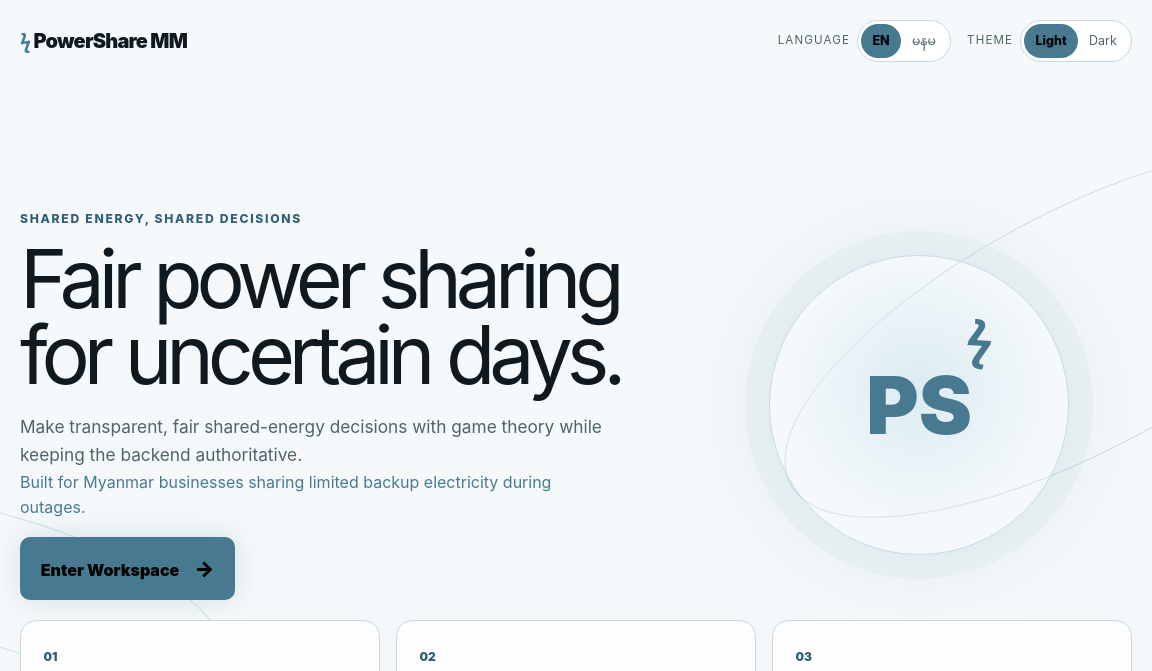
it: ScenarioForm — guided UX › disables submission when capacity is 0 or negative
Click the button "Enter Workspace →" at [128, 568], box [20,537,235,600]
(page scrolled)
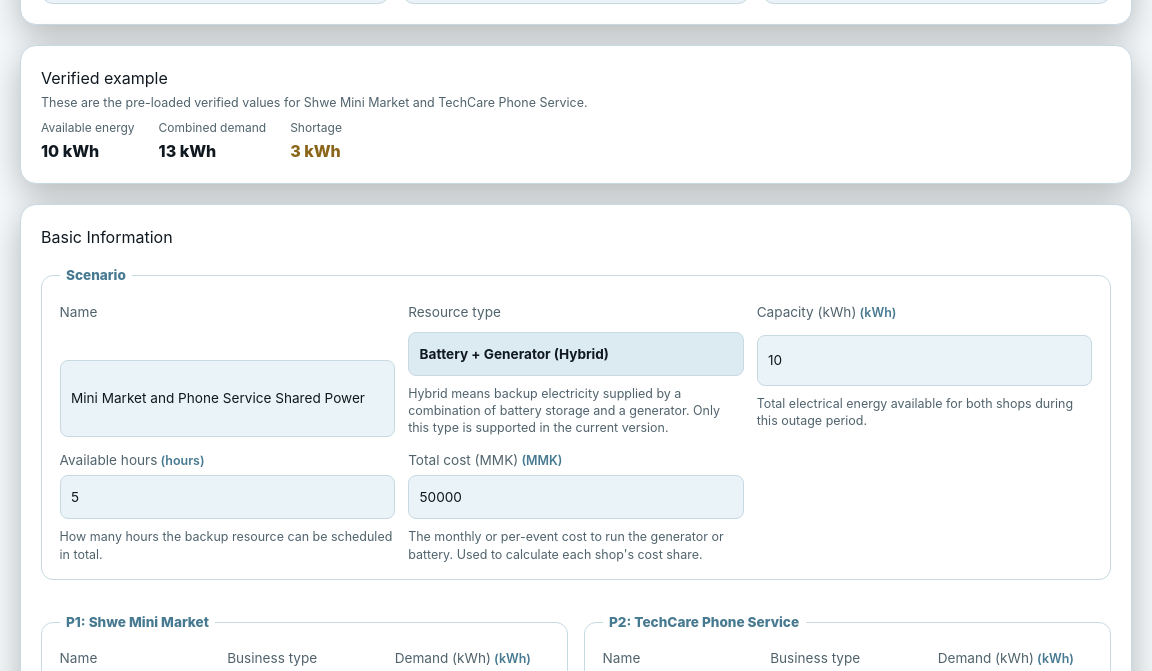
Replace the text in the number field labelled "Capacity (kWh) (kWh)" with "0" at [925, 360], box [757,335,1092,386]
(page scrolled)
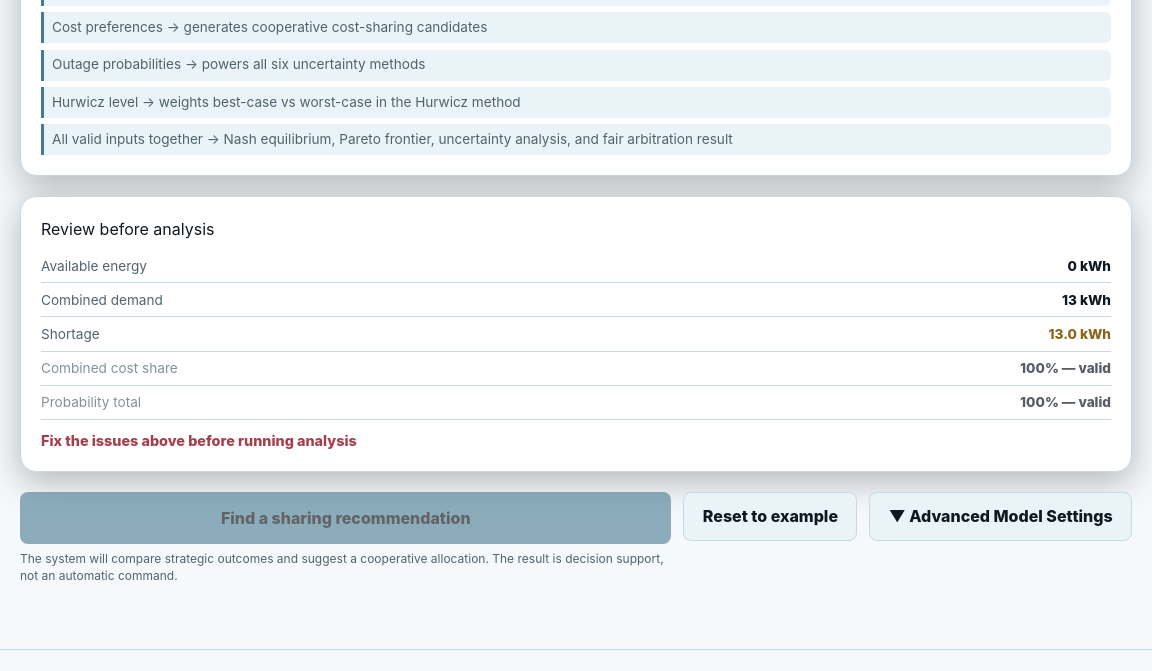
Expected: the button "Find a sharing recommendation" is disabled, [20,492,672,544]
